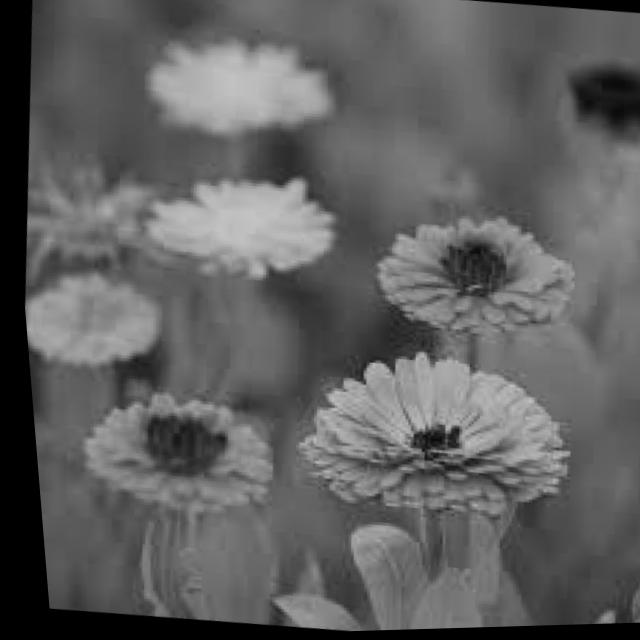Flower: (267, 336, 607, 535), (128, 14, 355, 151), (372, 210, 592, 341), (82, 382, 279, 527), (130, 164, 349, 289), (23, 255, 167, 367)
